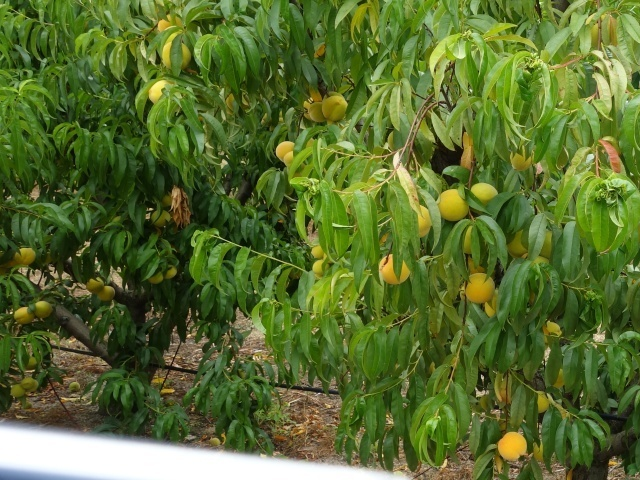peach: (434, 186, 473, 226), (375, 249, 411, 290), (462, 270, 496, 311), (159, 40, 193, 74), (467, 177, 504, 208), (494, 430, 529, 462), (408, 199, 435, 240), (503, 228, 531, 265), (319, 94, 350, 126), (507, 145, 536, 174), (145, 77, 175, 104), (155, 12, 185, 38), (10, 304, 36, 329), (10, 245, 36, 269), (28, 297, 54, 321), (304, 100, 328, 124), (272, 136, 296, 160), (82, 272, 105, 297), (150, 205, 172, 230), (534, 388, 553, 415), (158, 261, 181, 282), (281, 148, 302, 170), (94, 284, 117, 303), (146, 267, 166, 288), (307, 243, 328, 263), (310, 258, 330, 277)
